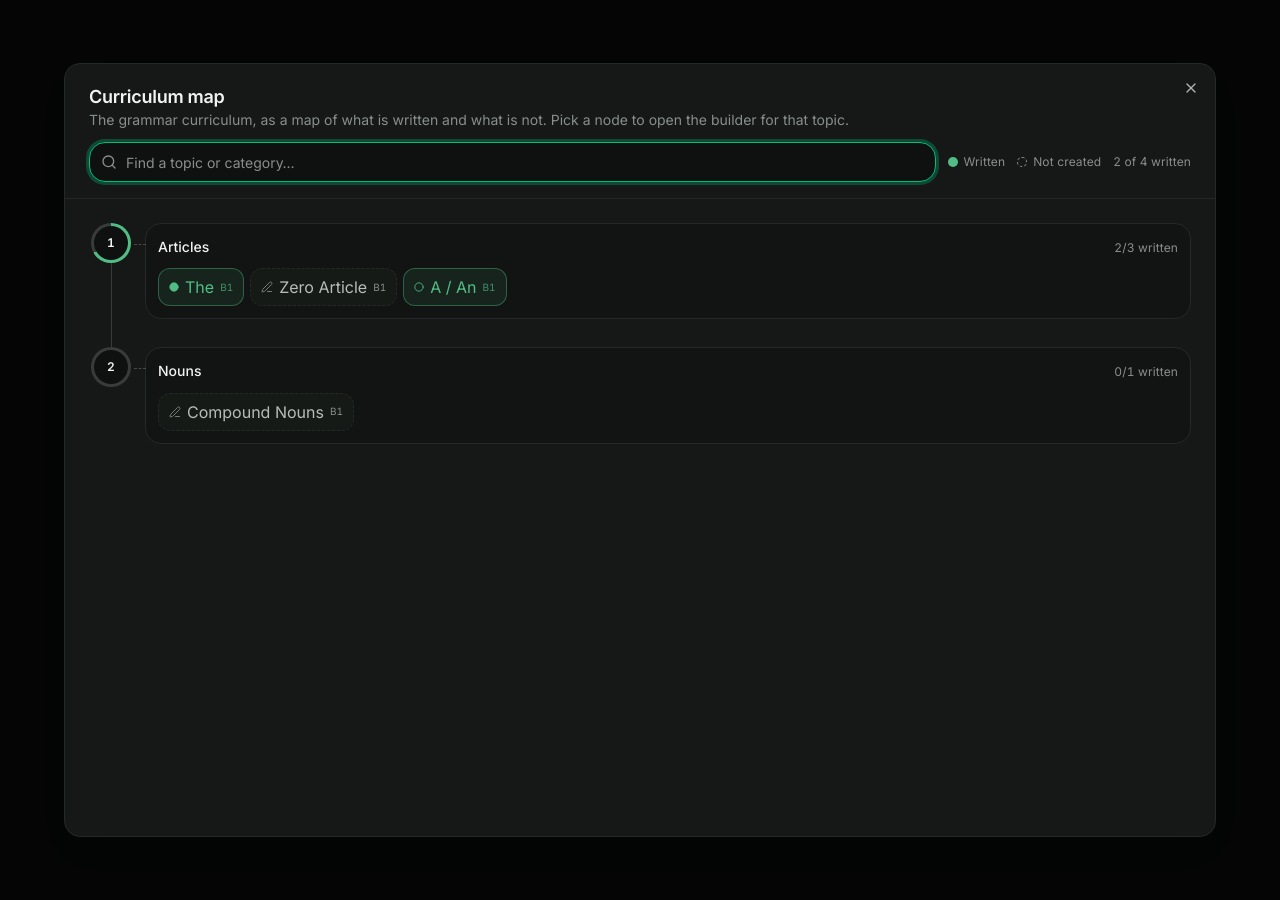
Test: GrammarSchemaDialog › narrows the schema to what was searched, and drops categories that empty out
Type "compound" into the field named "search the curriculum" at point(512, 162), box [89, 142, 936, 182]
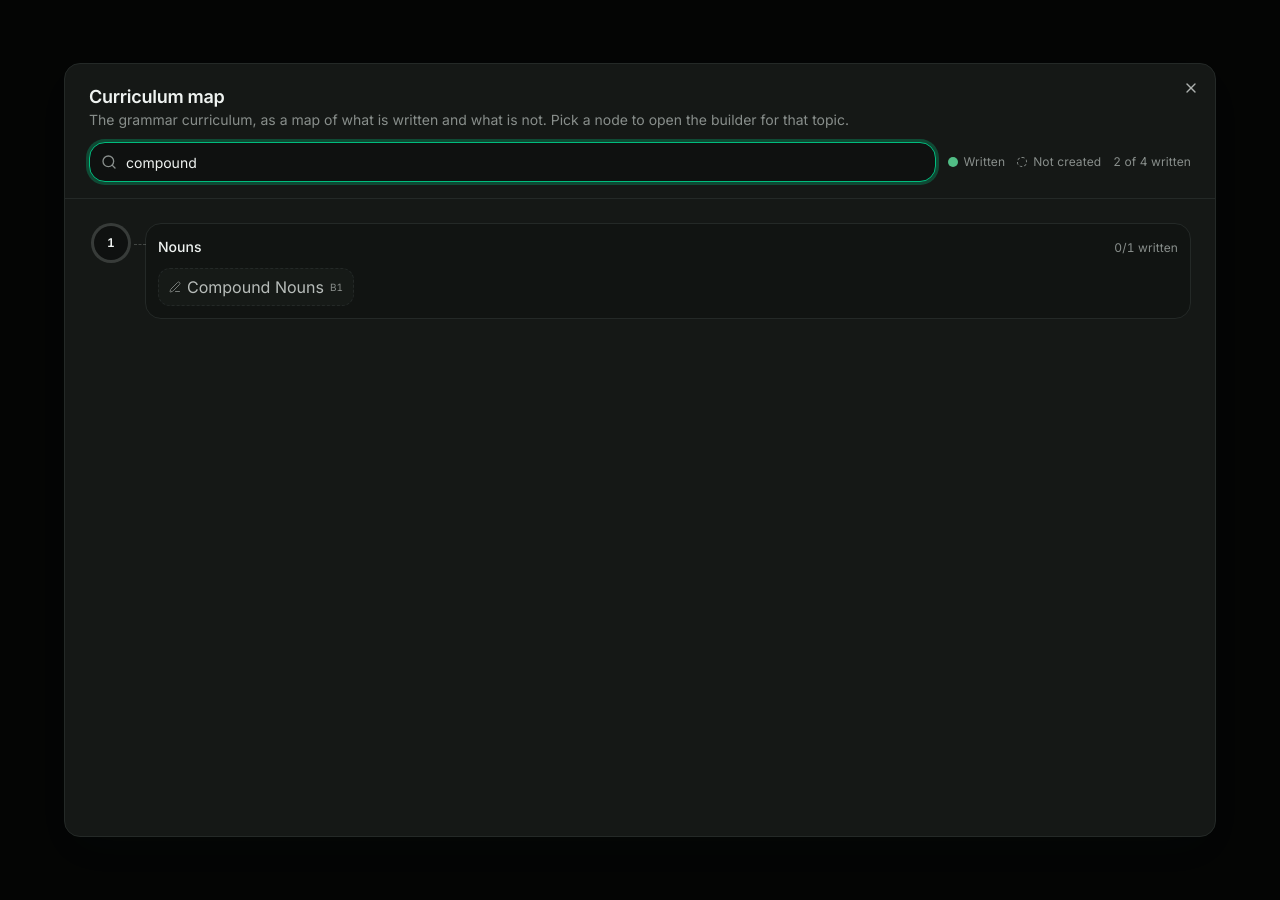
Expected: the heading "Nouns" is shown, [158, 236, 201, 258]
Expected: the heading "Articles" is gone
